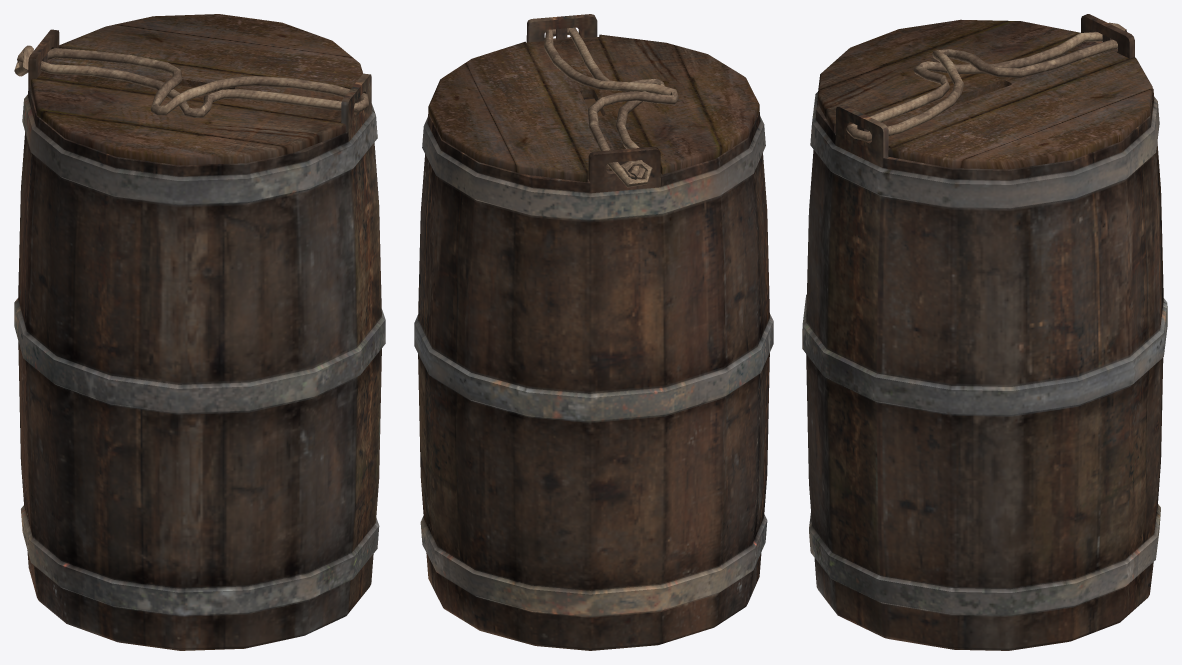
File: barrel_farm.glb
3 views of the same model, side by side, from view 1: azimuth 30°, elevation 25°; view 2: azimuth 150°, elevation 25°; view 3: azimuth 270°, elevation 25° (orthographic). The views are drawn at different scales.
Parts seen in each view (by area): view 1: barrel_Planks_0; view 2: barrel_Planks_0; view 3: barrel_Planks_0.
Part boxes in pixels (<box>): barrel_Planks_0: <box>14,14,385,650</box>; barrel_Planks_0: <box>414,14,773,650</box>; barrel_Planks_0: <box>802,14,1167,650</box>.
Bounding box in the file's own units: 0.611 × 0.9475 × 0.611.
2 materials, 2 textured.
